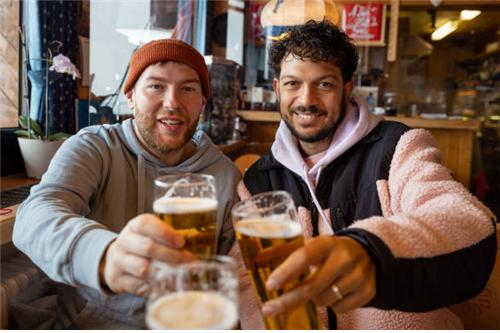alcohol: (231, 191, 332, 330), (154, 173, 215, 296)
